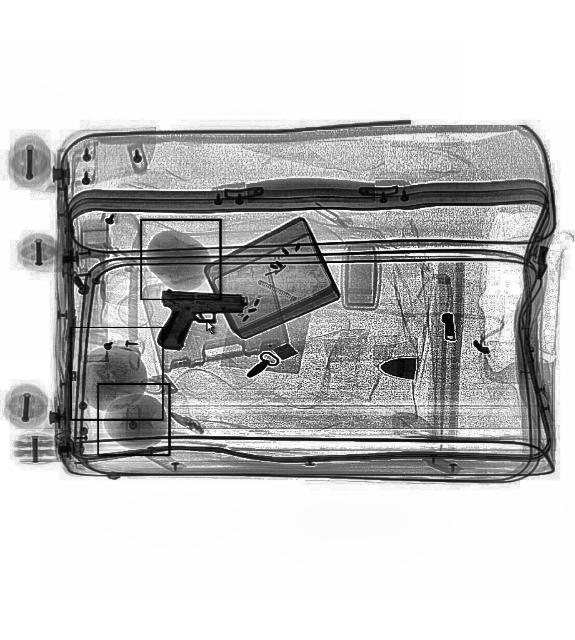Gun: (158, 290, 245, 350)
